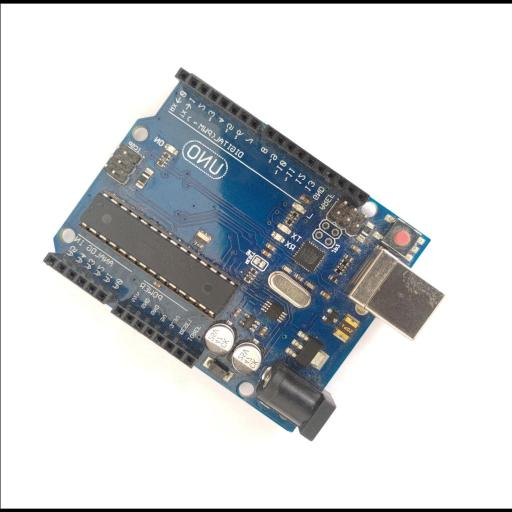Arduino Uno R3: (42, 66, 446, 442)
